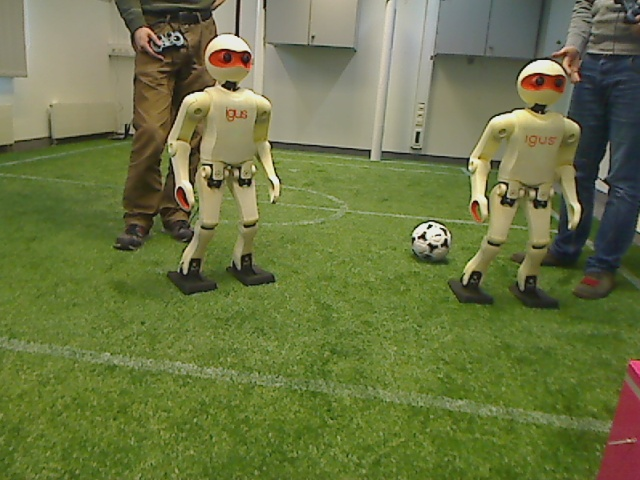ball: (409, 220, 451, 264)
robot: (449, 54, 581, 311), (170, 33, 280, 296)
